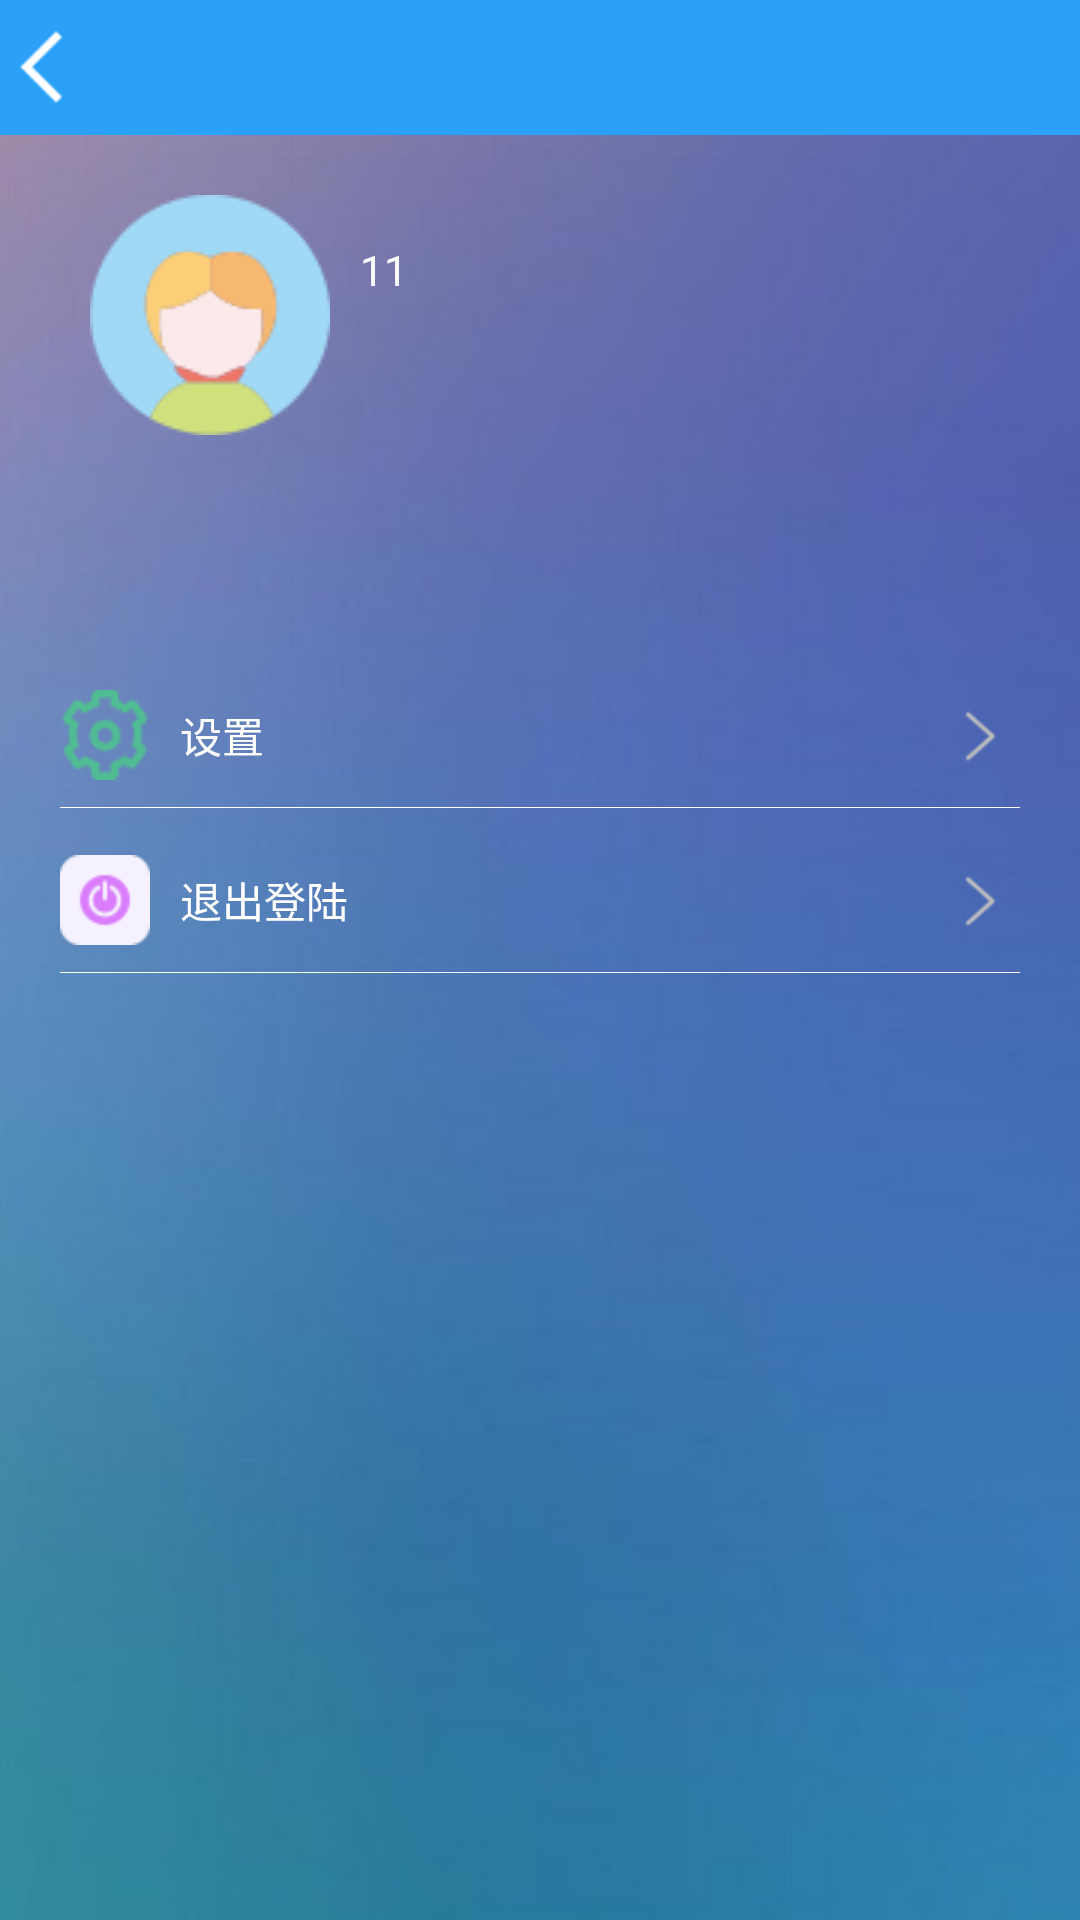

Screen size 1080 x 1920. Icon name, then its center in pixels as point (x, y):
fanhui: point (41, 67)
man: point (210, 315)
